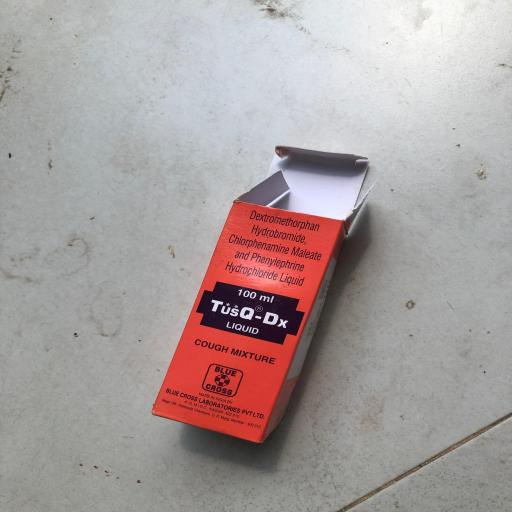waste: (148, 122, 394, 450)
